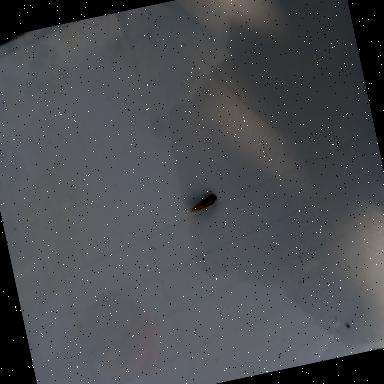pbw: (186, 192, 219, 214)
